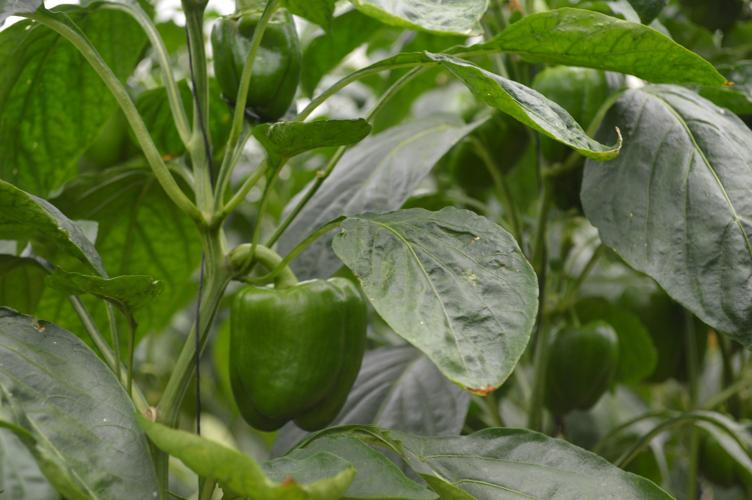BellPepper: (223, 262, 392, 444), (209, 11, 317, 130), (536, 315, 628, 438), (520, 57, 600, 159)
